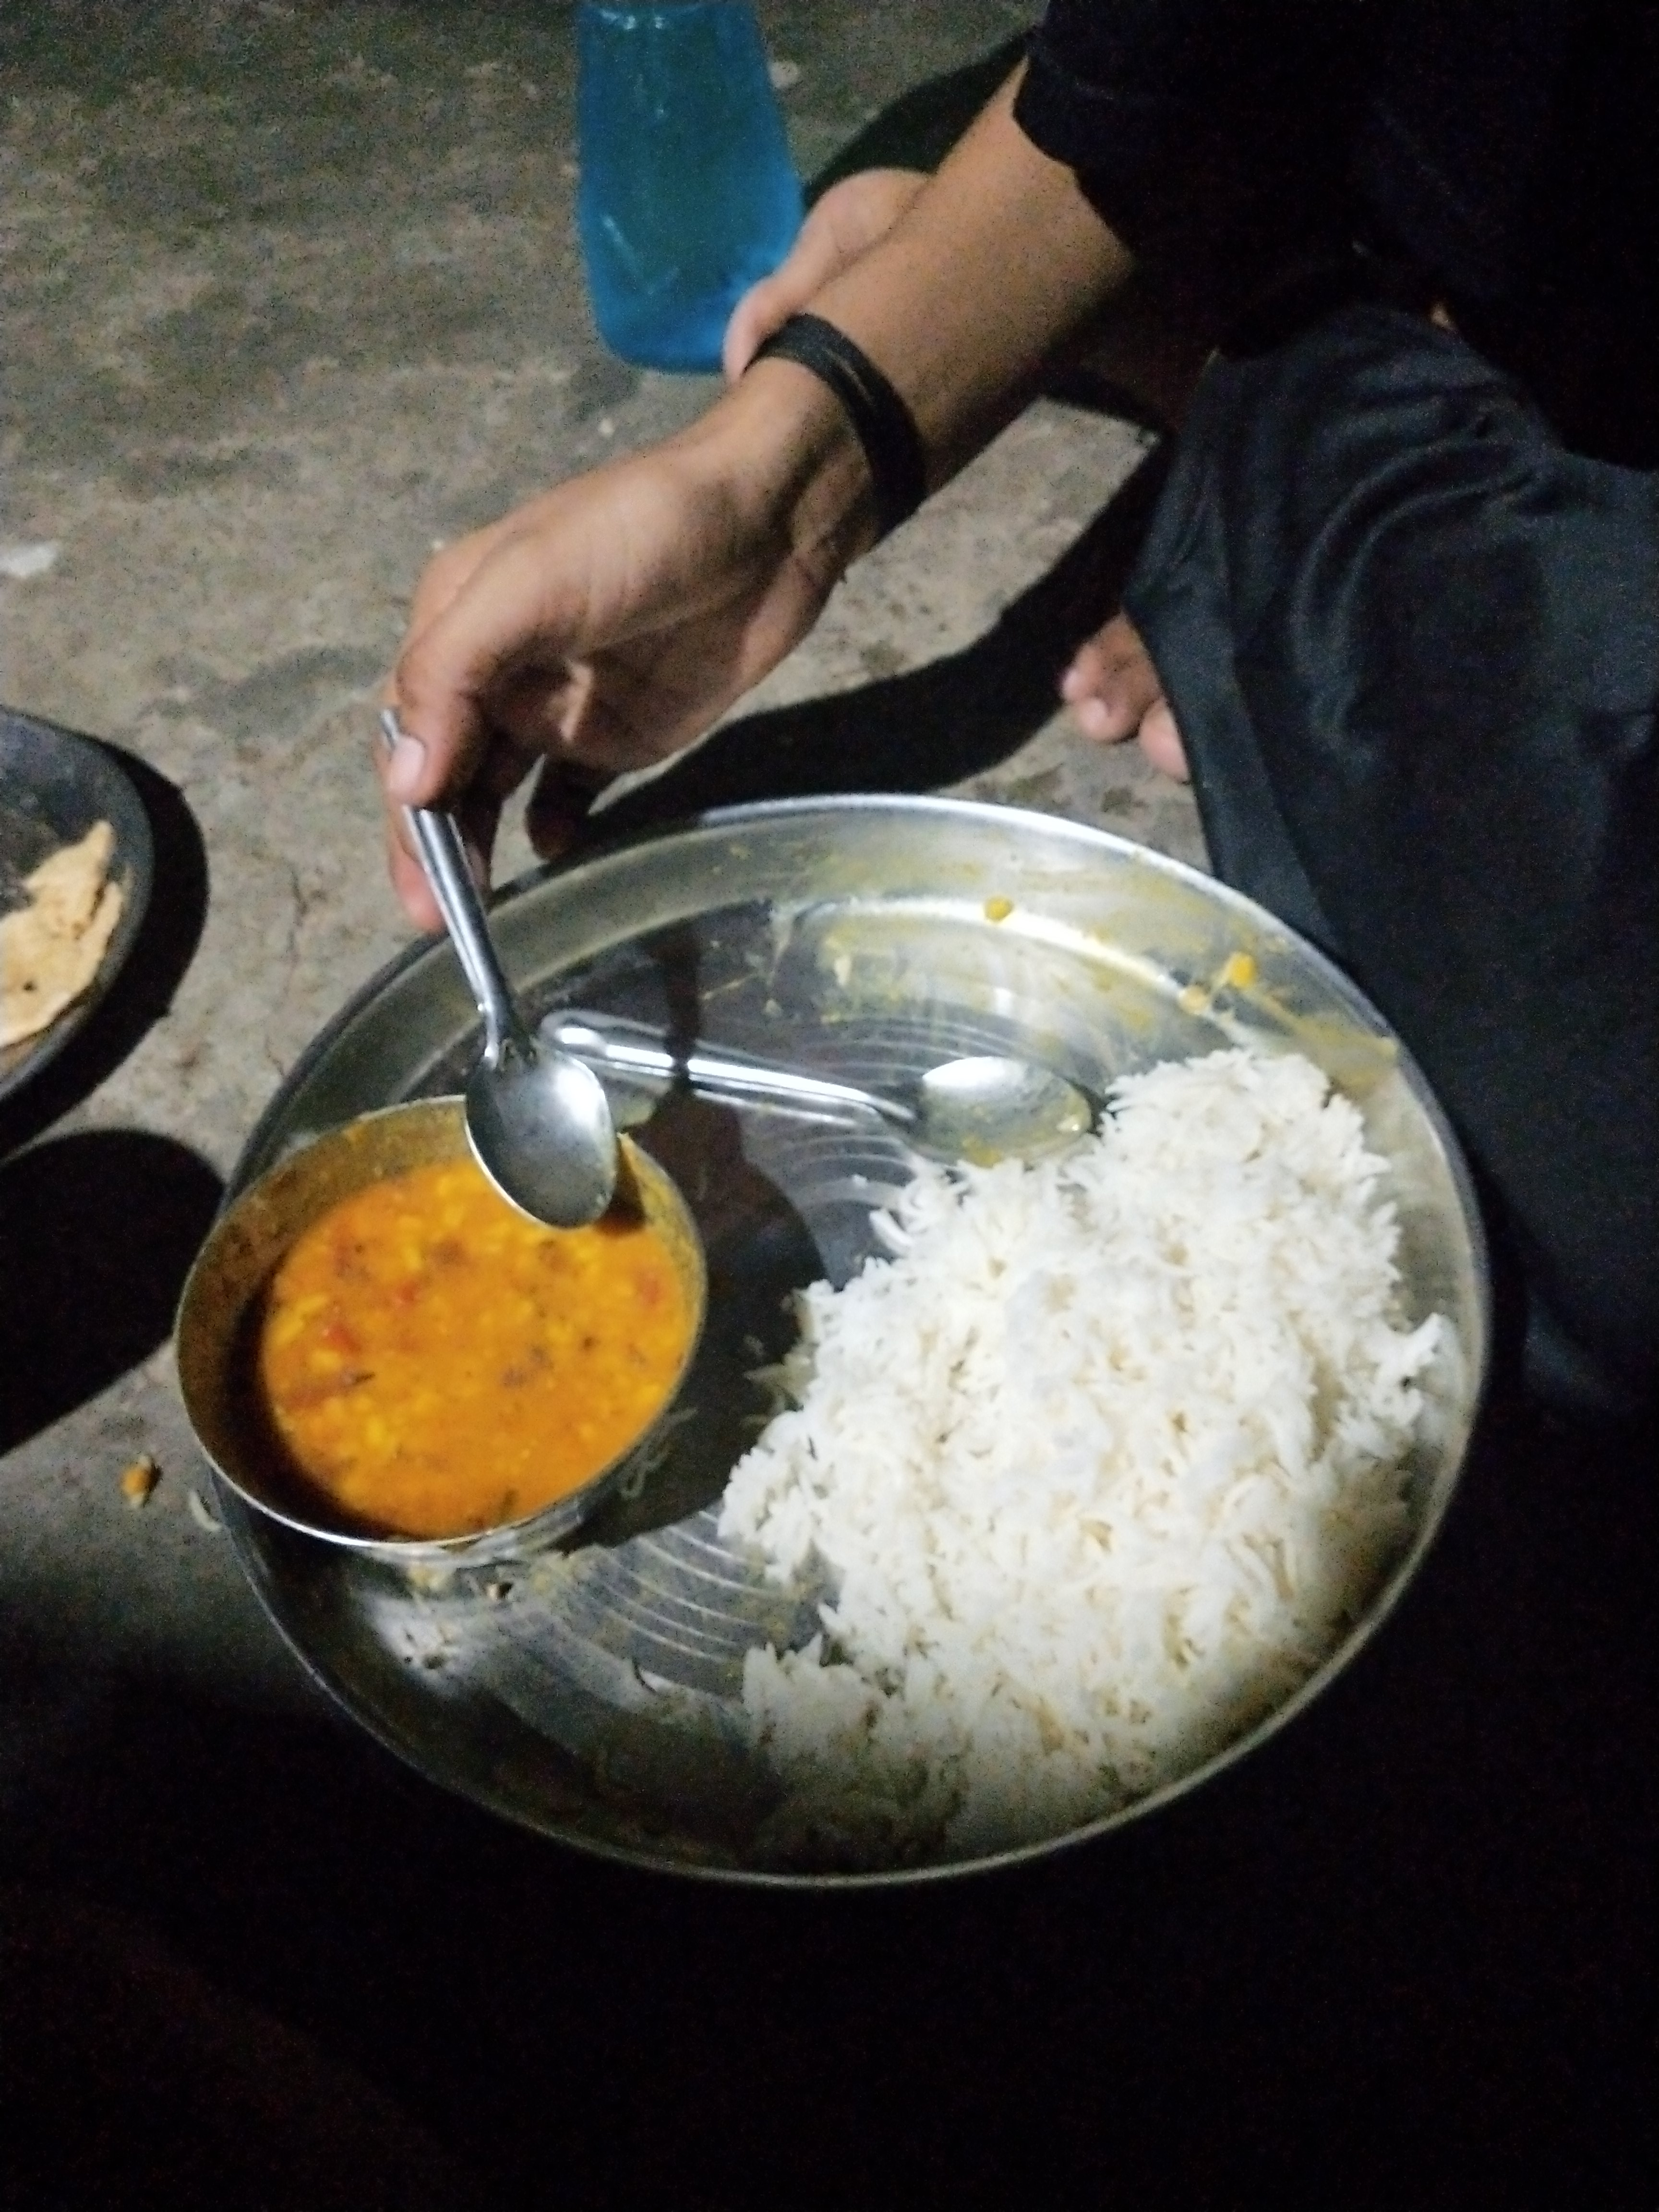food: (211, 1031, 1460, 1871), (0, 813, 146, 1055)
